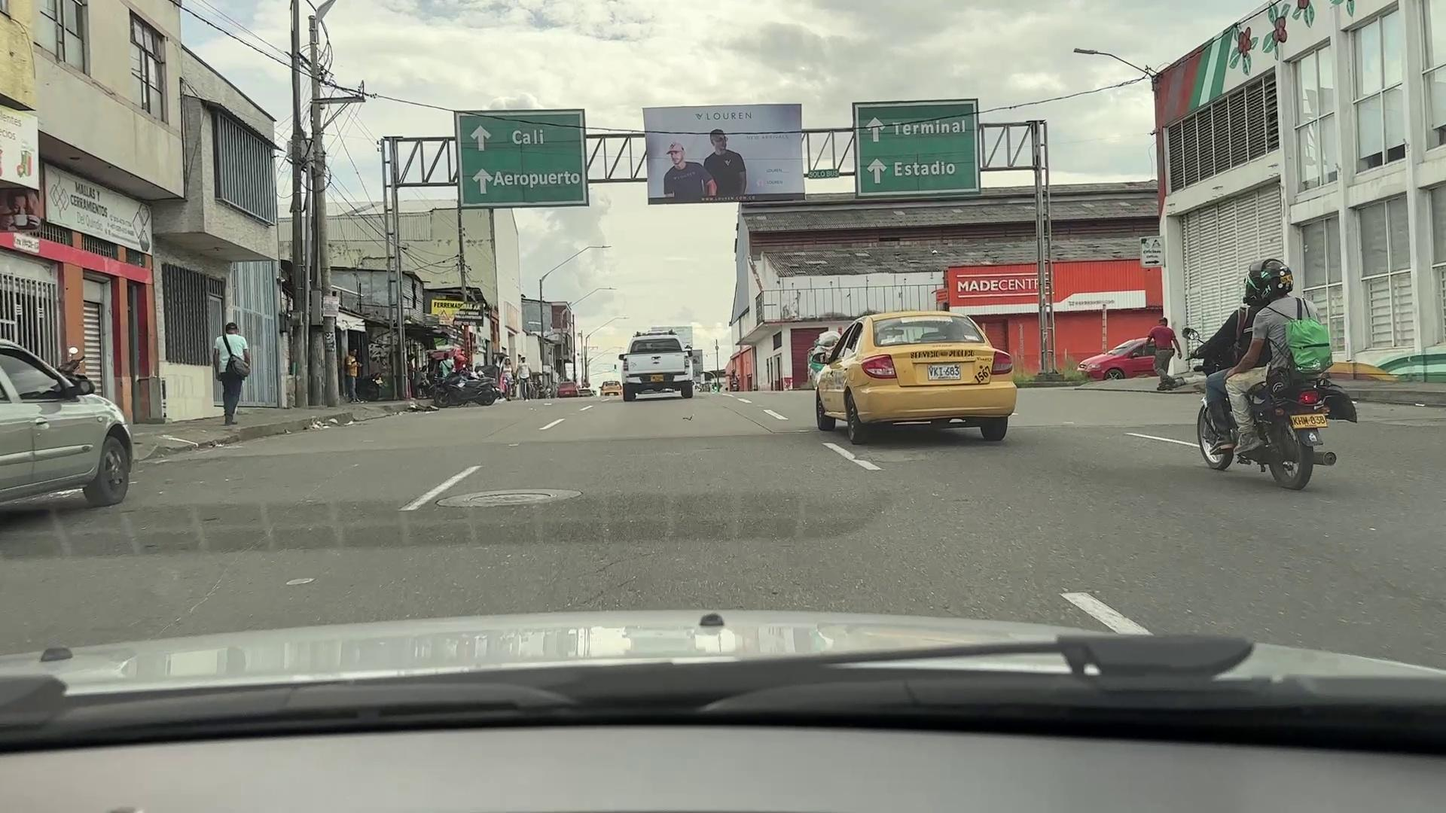registro: (470, 493, 551, 503)
